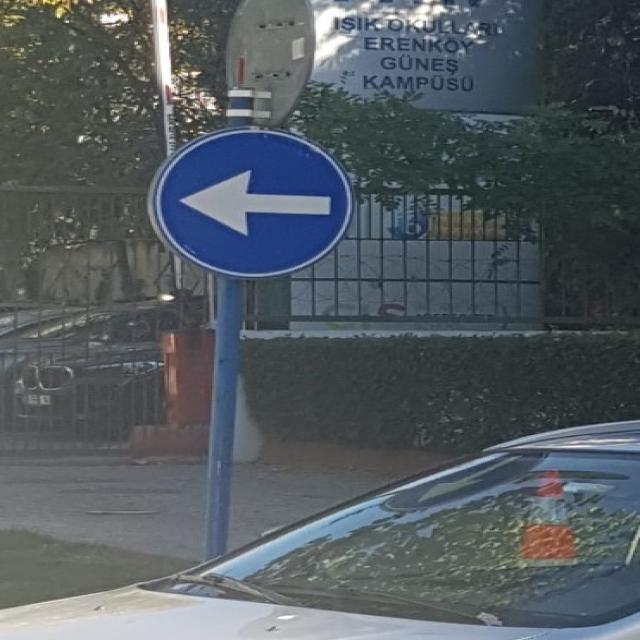Turn Left: (157, 131, 352, 283)
